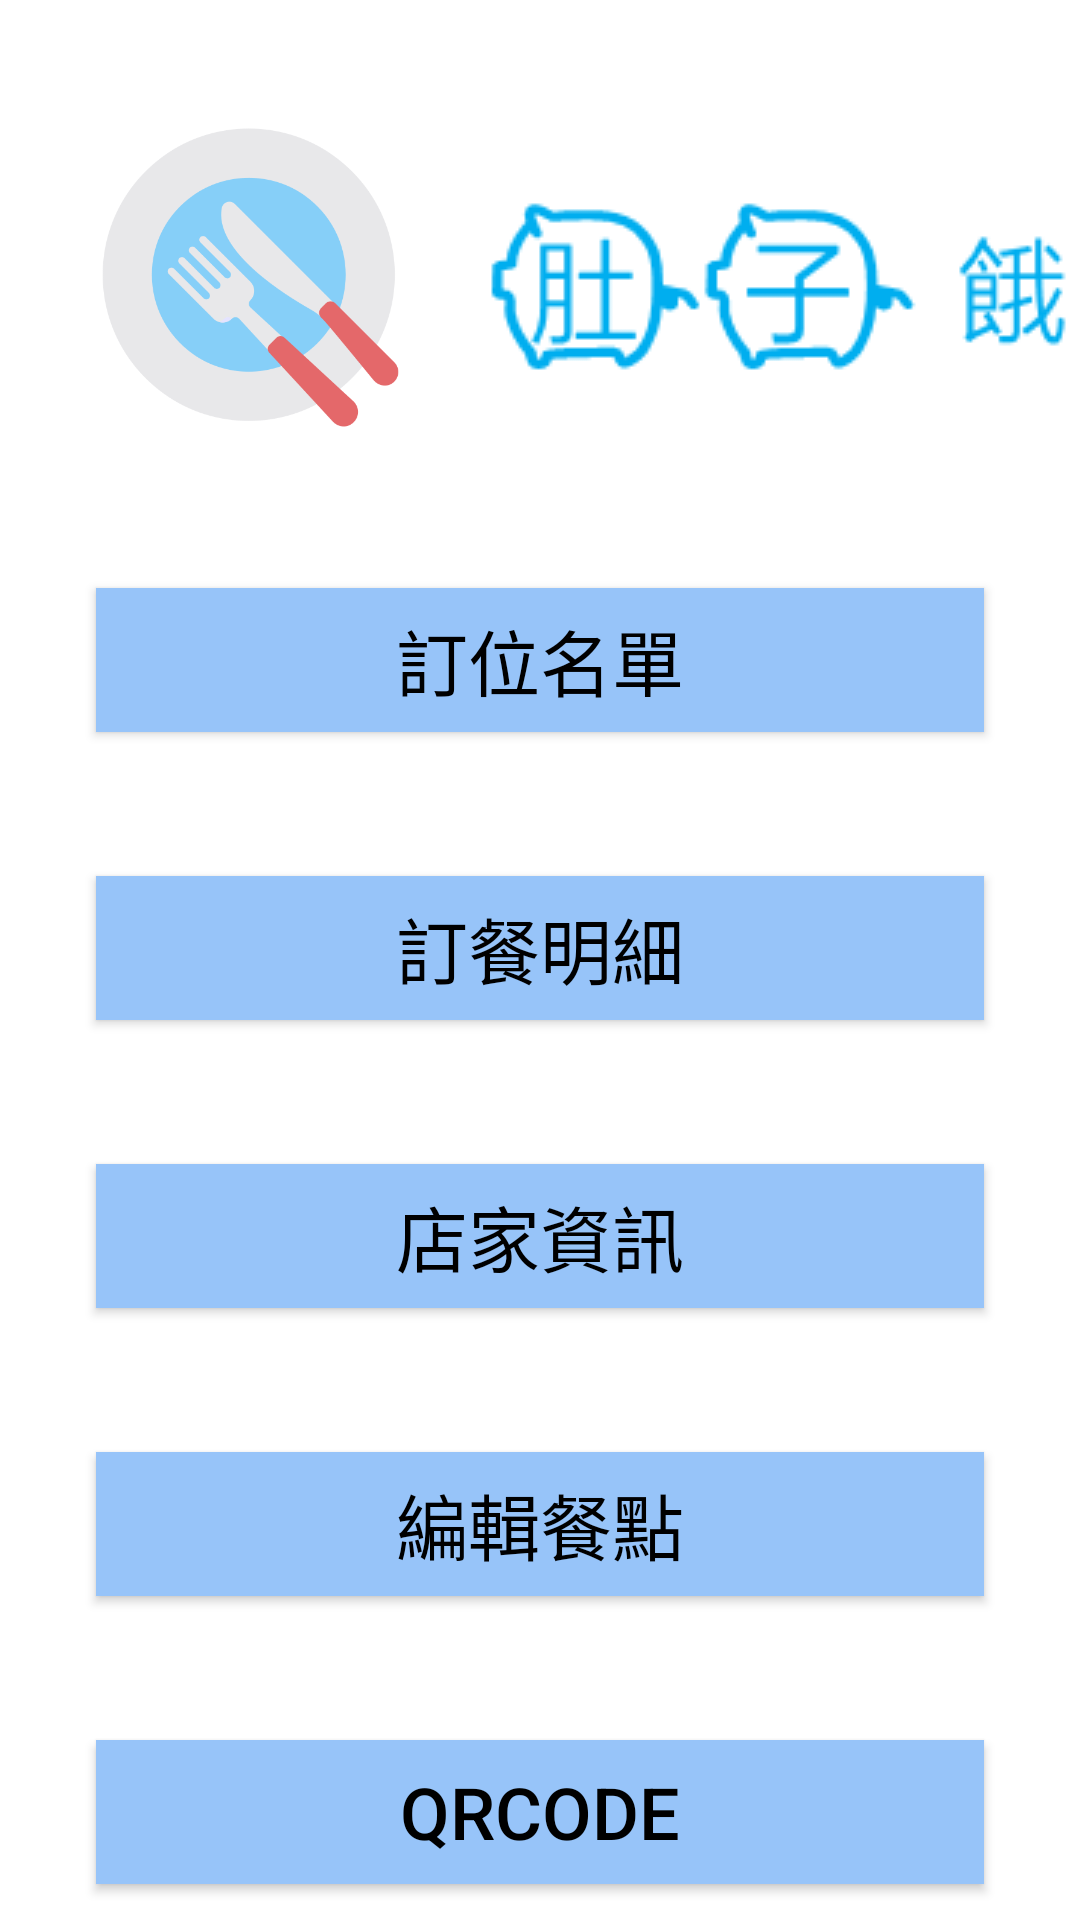

Screen size 1080px×1920px. Icon name, then its center in pixels as [x,y]:
kitchen accessories: [251,277]
